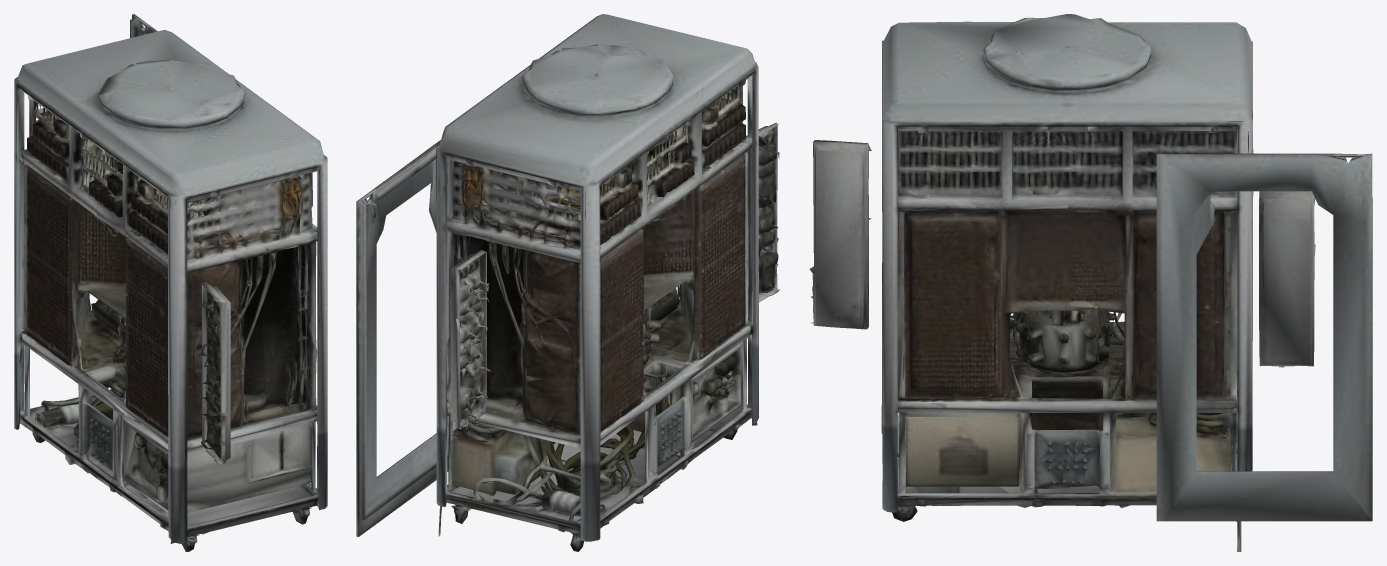
File: opera04.glb
3 renders of one model, left to right at view 1: azimuth 30°, elevation 25°; view 2: azimuth 150°, elevation 25°; view 3: azimuth 270°, elevation 25°, orthographic. The views are drawn at different scales.
Parts seen in each view (by area): view 1: tripo_node_f541d92d-59cc-41f0-938b-ea7161b8779f; view 2: tripo_node_f541d92d-59cc-41f0-938b-ea7161b8779f; view 3: tripo_node_f541d92d-59cc-41f0-938b-ea7161b8779f.
Part boxes in pixels (box(x1,y1,x2,y2)): tripo_node_f541d92d-59cc-41f0-938b-ea7161b8779f: box(14, 14, 327, 551); tripo_node_f541d92d-59cc-41f0-938b-ea7161b8779f: box(356, 14, 779, 551); tripo_node_f541d92d-59cc-41f0-938b-ea7161b8779f: box(809, 14, 1372, 551).
Size of the model in its own units: 0.411 by 0.9106 by 0.9999.
1 material, 1 textured.
